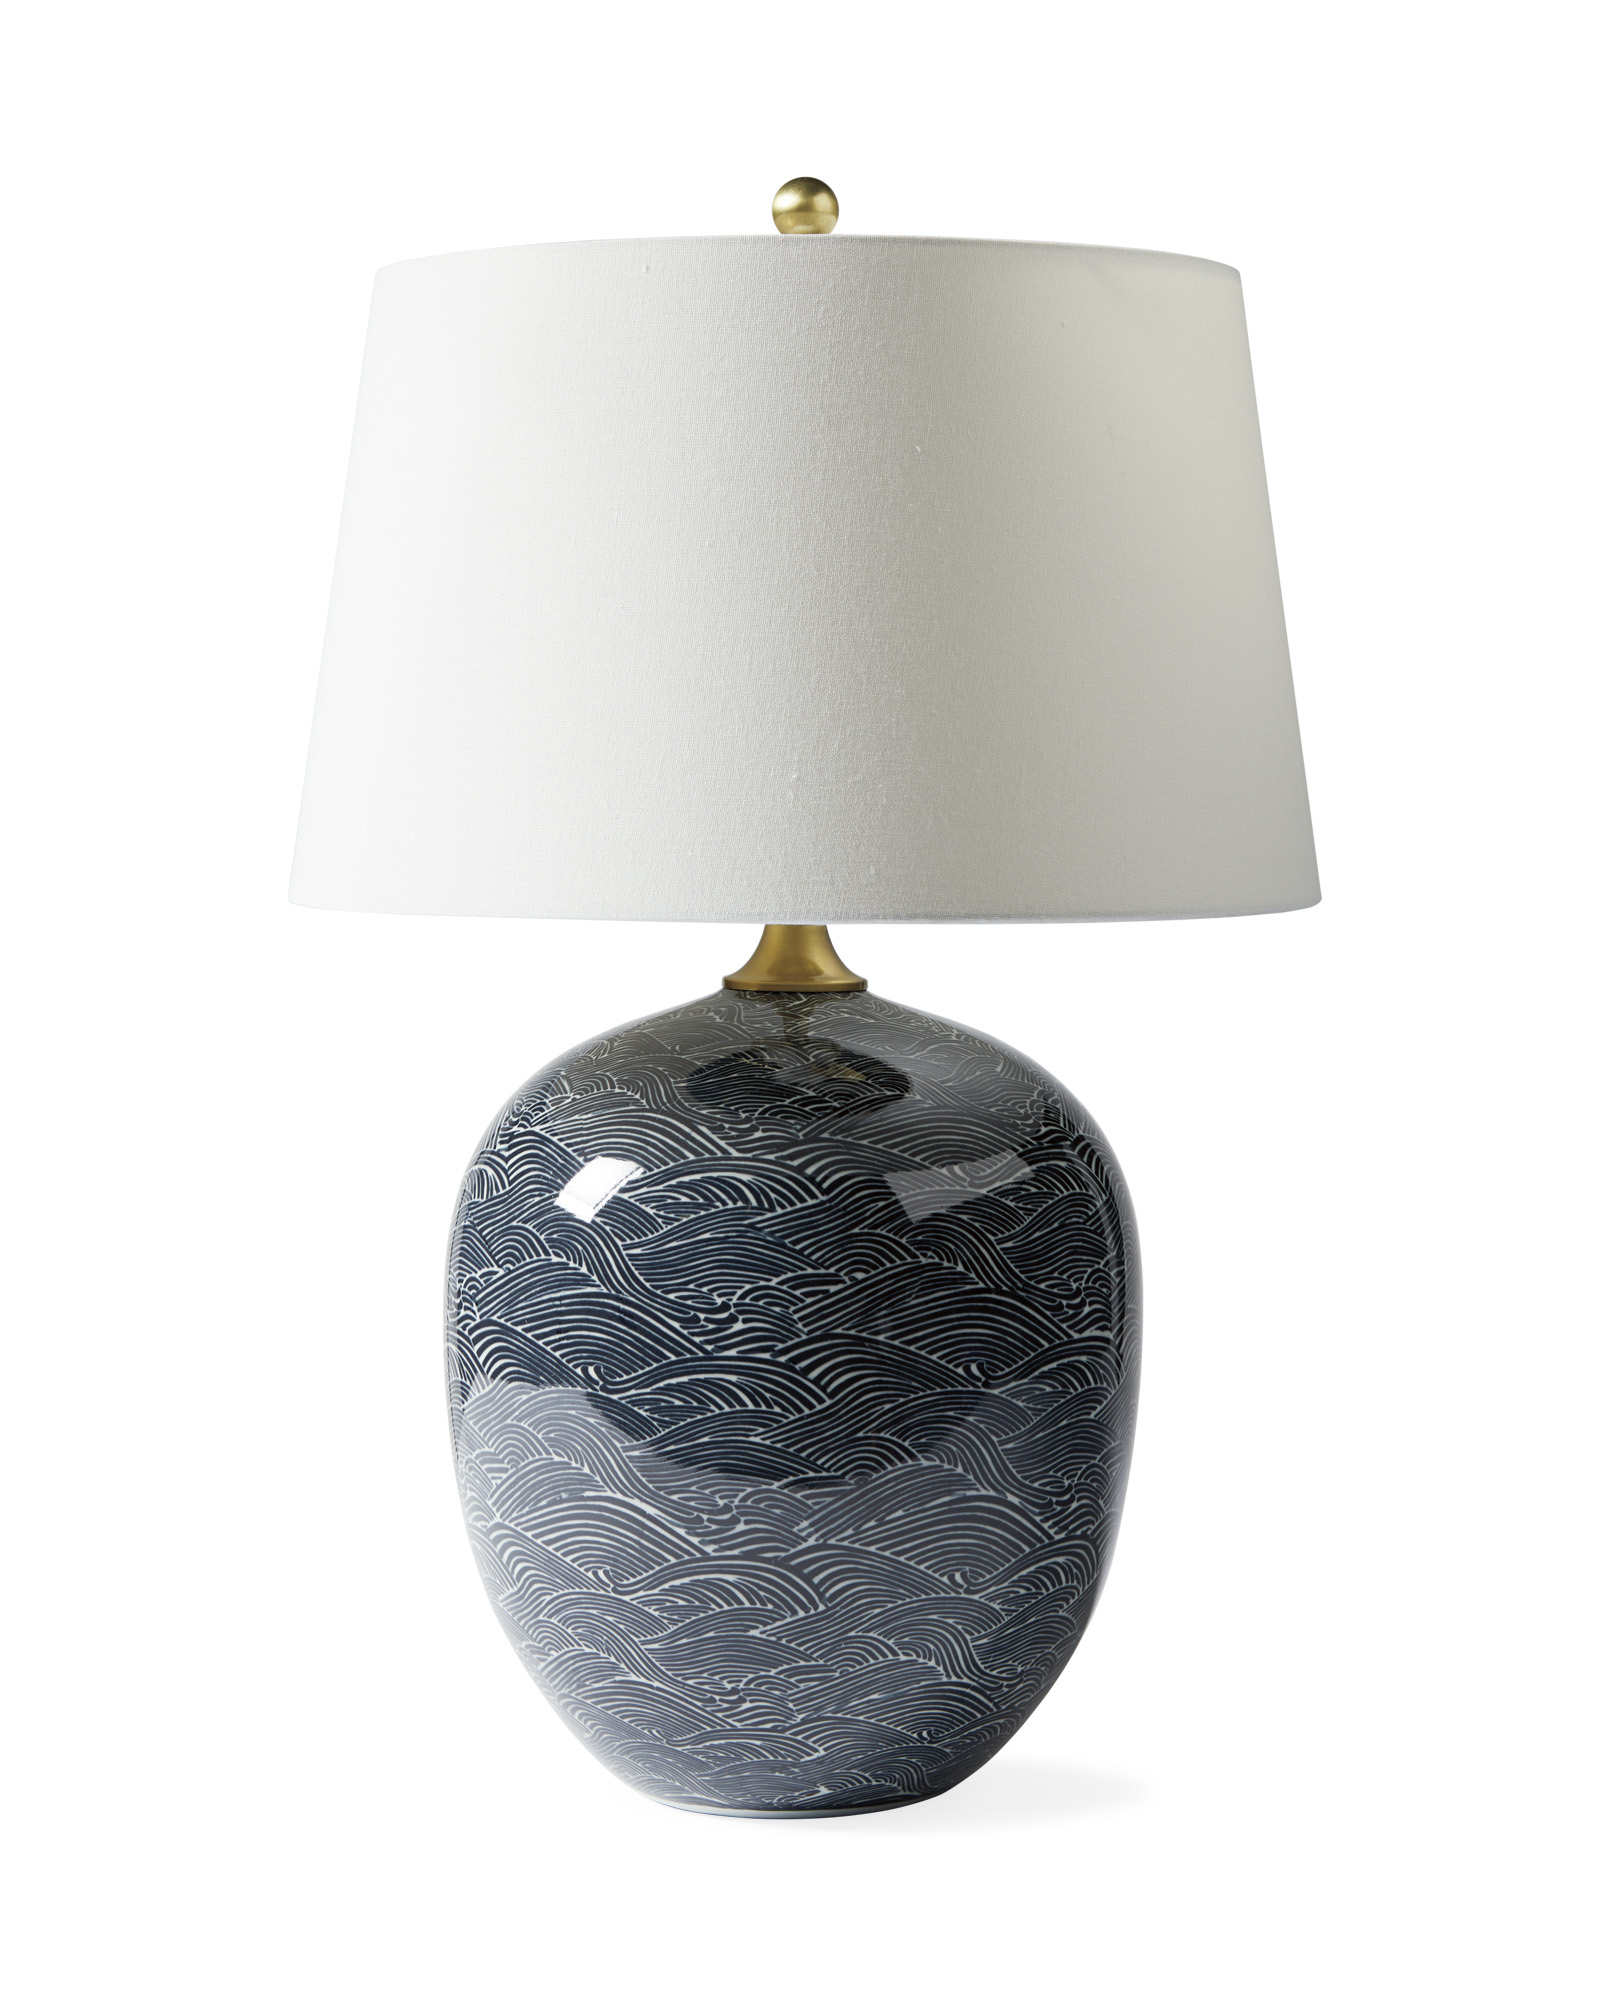lampu: (281, 229, 1314, 1819)
